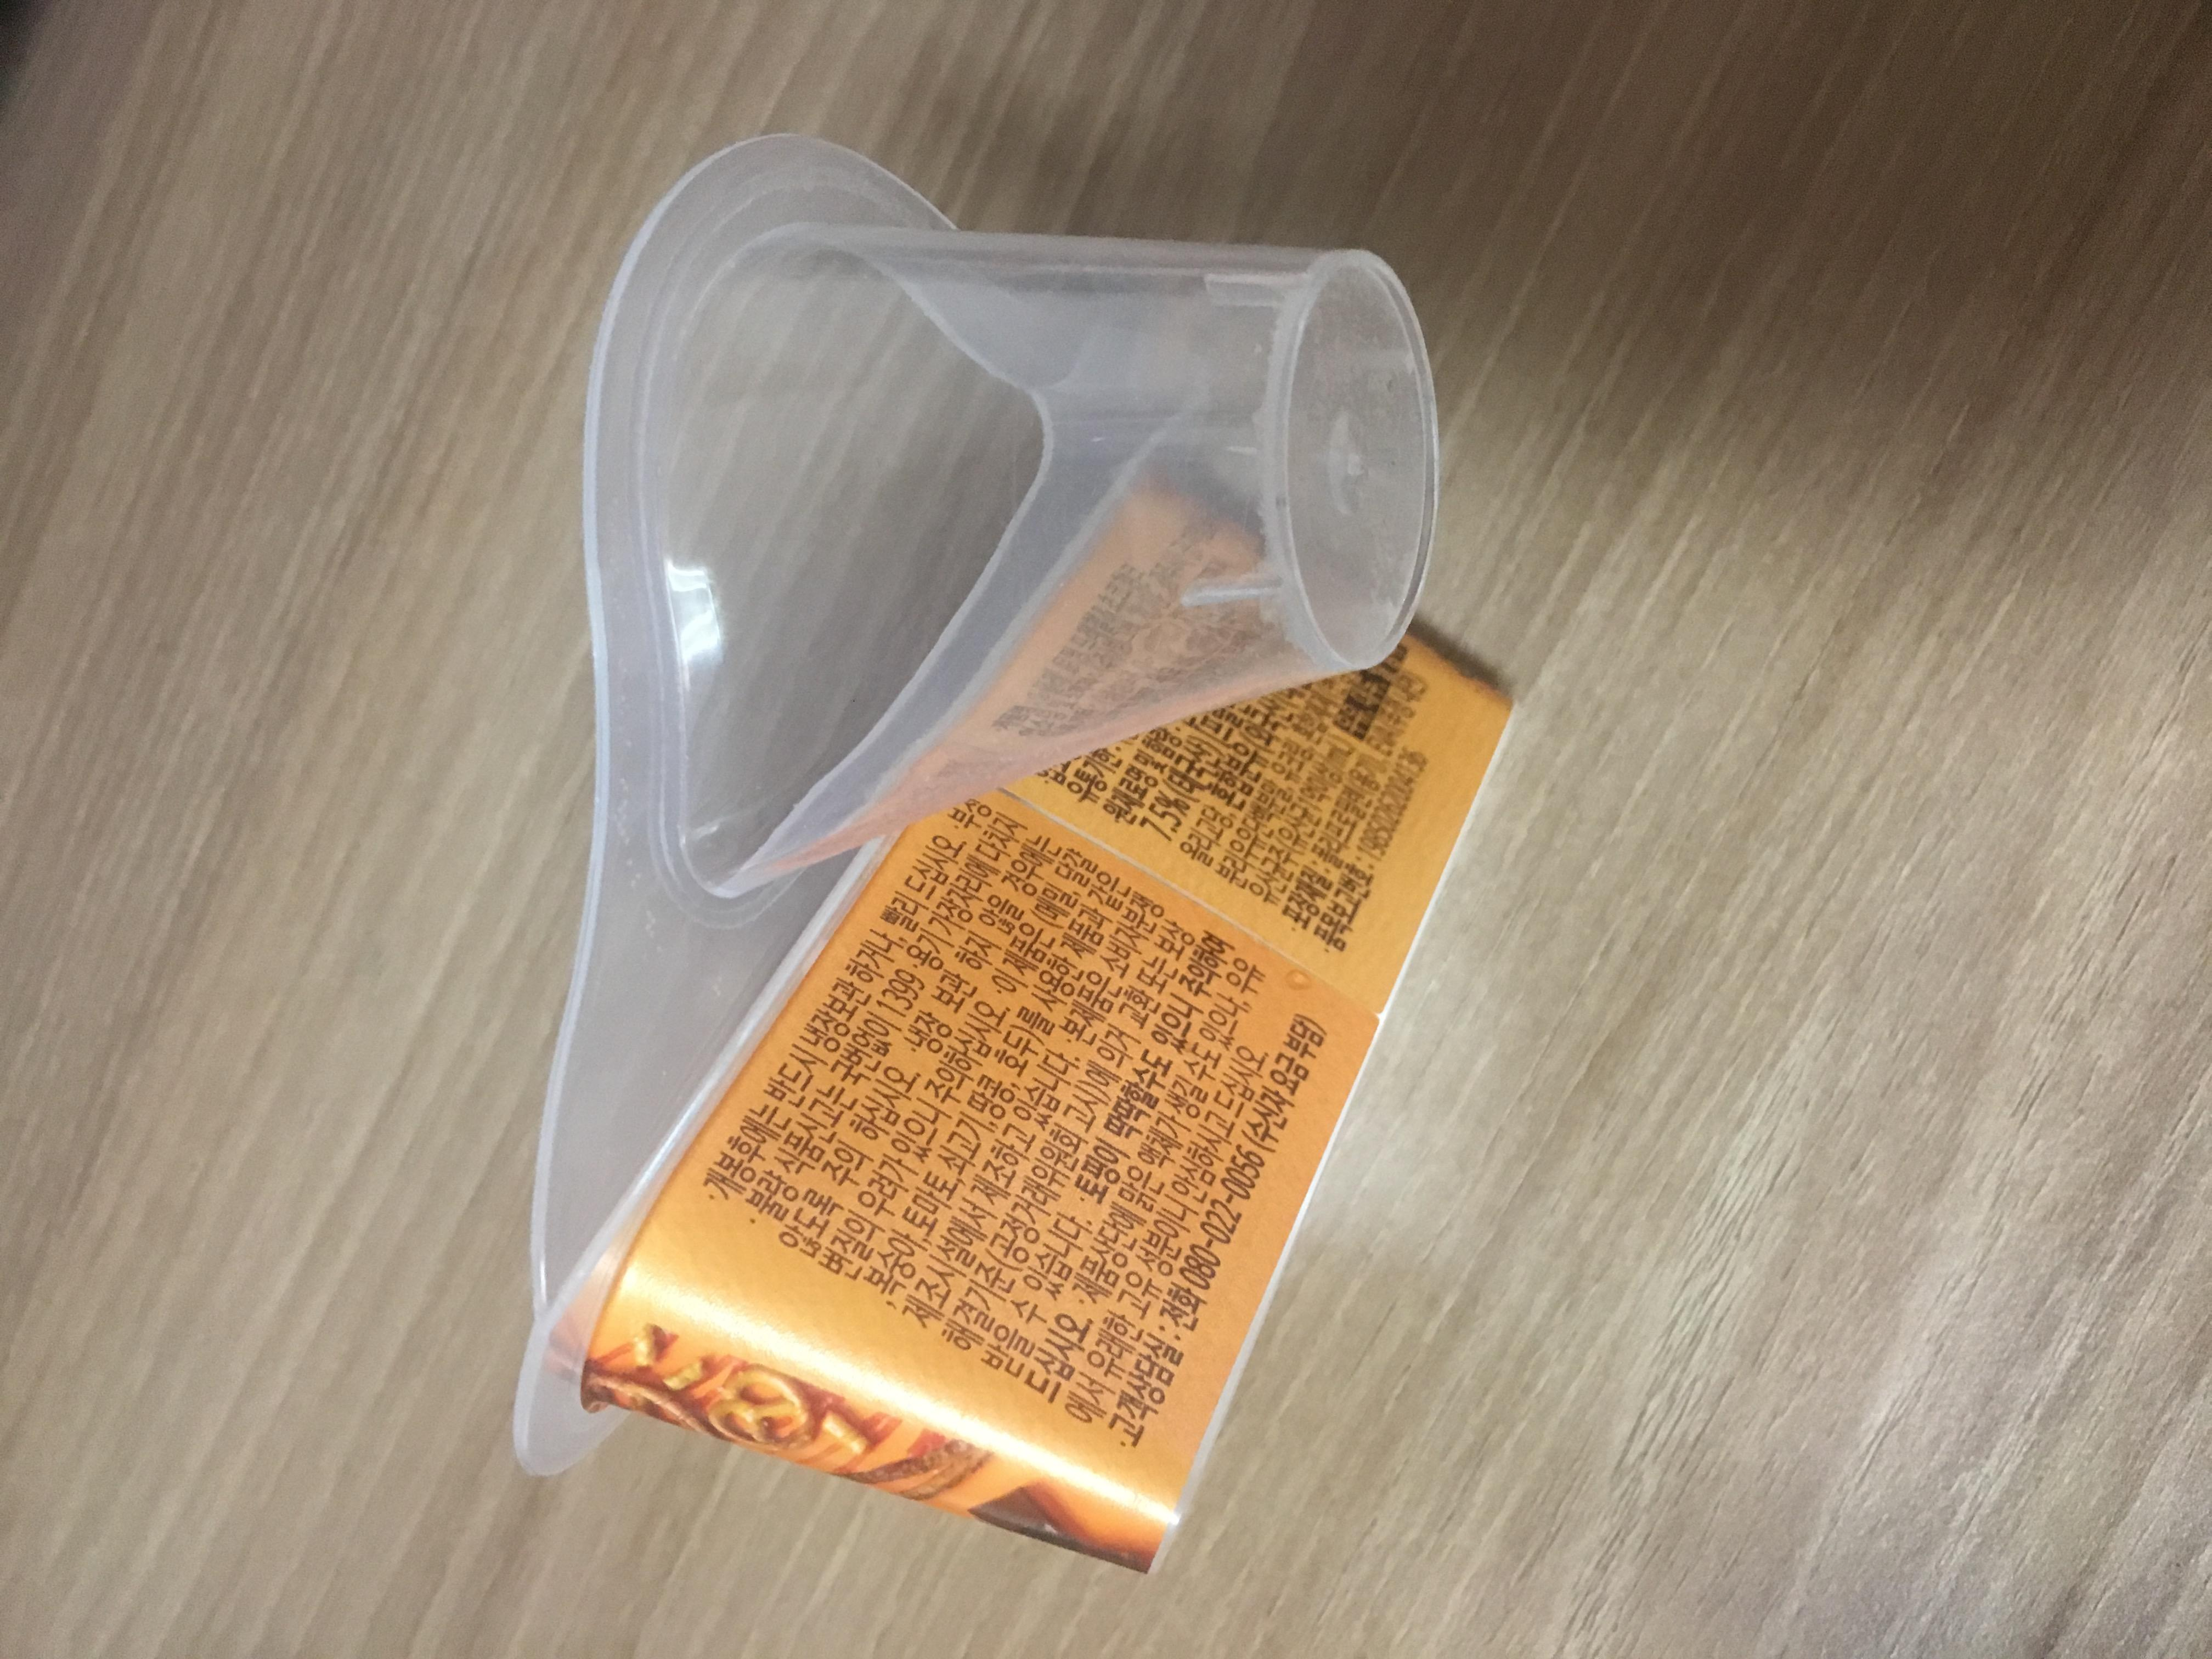bottle: (977, 296, 1132, 1230)
